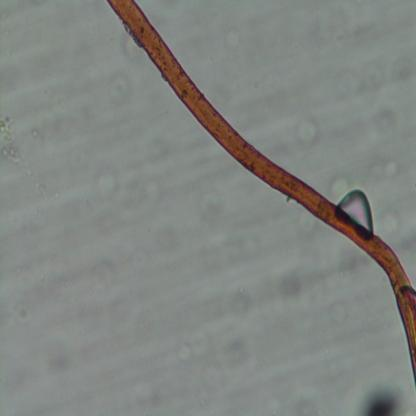Air bubble: (340, 188, 374, 226)
Background material: (0, 108, 32, 175), (217, 330, 257, 376), (358, 378, 406, 416), (364, 102, 400, 134), (107, 74, 130, 110), (295, 116, 319, 150), (94, 164, 116, 200), (278, 271, 308, 296), (371, 158, 403, 180), (232, 284, 250, 318), (328, 176, 349, 199), (182, 345, 198, 366)
Microfibre: (107, 1, 416, 378)
